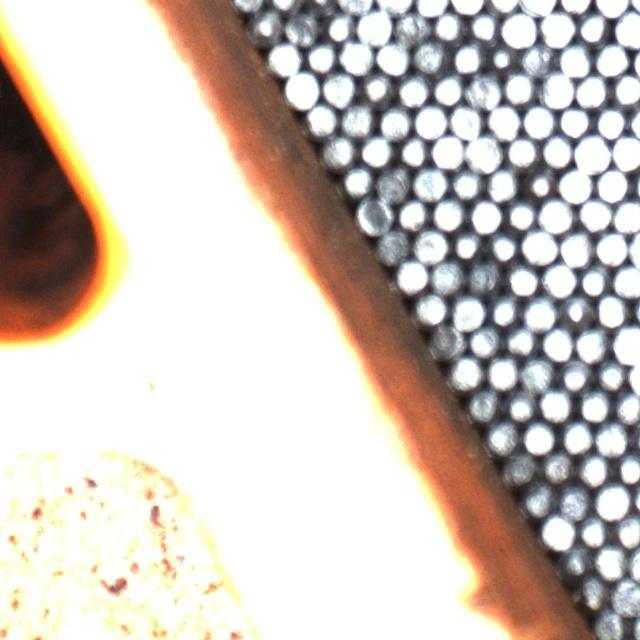tool: (354, 196, 392, 232), (538, 196, 574, 233), (540, 10, 576, 46), (558, 230, 594, 266), (393, 196, 429, 232), (520, 228, 556, 264), (594, 482, 630, 518), (538, 70, 574, 106), (501, 11, 537, 47), (375, 165, 411, 201), (576, 196, 612, 232), (428, 322, 464, 358), (556, 102, 592, 137), (466, 72, 501, 108), (466, 134, 501, 170), (430, 132, 465, 168), (394, 72, 429, 108), (467, 258, 502, 294), (430, 258, 465, 294), (594, 229, 629, 265), (557, 356, 592, 392), (574, 134, 609, 170), (357, 8, 392, 44), (430, 196, 466, 231), (412, 165, 448, 200), (557, 166, 593, 201), (320, 70, 355, 106), (394, 257, 429, 293), (412, 39, 448, 74), (448, 165, 484, 200), (540, 448, 575, 484), (558, 419, 594, 454), (450, 294, 485, 330), (374, 228, 410, 263), (448, 354, 483, 390), (358, 133, 393, 168), (505, 261, 540, 296), (413, 227, 448, 262), (394, 9, 429, 44), (303, 38, 338, 73), (377, 104, 412, 139), (284, 10, 319, 45), (503, 386, 538, 421), (574, 326, 609, 361), (448, 104, 483, 139), (486, 418, 521, 453), (521, 480, 556, 515), (539, 386, 573, 422), (486, 354, 520, 390), (284, 70, 318, 106), (574, 72, 608, 108), (576, 9, 610, 45), (430, 7, 466, 41), (484, 166, 520, 200), (577, 261, 611, 297), (249, 6, 283, 42), (542, 262, 576, 297), (540, 132, 574, 167), (304, 101, 338, 136), (486, 103, 520, 138), (521, 103, 555, 138), (520, 357, 554, 392), (594, 543, 628, 578), (339, 39, 374, 73), (468, 198, 502, 233), (431, 71, 465, 106), (467, 324, 502, 358), (413, 103, 447, 138), (541, 325, 575, 360), (504, 133, 539, 167), (594, 167, 629, 201), (594, 42, 629, 76), (396, 134, 430, 169), (505, 322, 539, 357), (593, 421, 628, 455), (521, 420, 556, 454), (520, 41, 554, 76), (487, 292, 522, 326), (557, 42, 592, 76), (376, 39, 410, 74), (320, 134, 354, 169), (450, 227, 485, 261), (501, 70, 536, 104), (484, 39, 519, 73), (576, 452, 611, 486), (340, 102, 374, 136), (541, 514, 575, 548), (595, 292, 629, 326), (594, 104, 628, 138), (558, 485, 592, 519), (467, 386, 501, 420), (467, 8, 501, 42), (502, 450, 536, 484), (413, 290, 447, 324), (266, 40, 300, 74), (595, 358, 629, 392), (503, 197, 537, 231), (559, 292, 593, 326), (322, 8, 356, 42), (522, 296, 556, 330), (577, 388, 611, 422), (359, 70, 393, 104), (522, 166, 556, 200), (576, 574, 610, 608), (592, 607, 627, 640), (487, 228, 520, 263), (578, 513, 611, 548), (451, 39, 484, 73), (341, 163, 374, 196), (610, 134, 640, 170), (611, 578, 640, 614), (560, 542, 592, 574), (612, 262, 640, 298), (612, 512, 640, 548), (612, 197, 640, 233), (613, 324, 640, 361), (611, 72, 640, 106), (612, 388, 640, 423), (614, 11, 640, 47), (614, 450, 640, 485), (594, 0, 630, 16), (520, 0, 556, 15), (414, 0, 448, 15), (557, 0, 593, 14), (376, 0, 412, 14), (450, 0, 484, 13)
